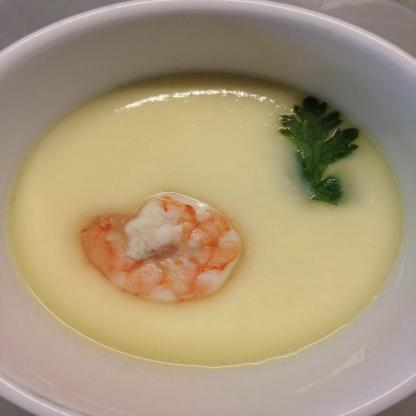Kaithoon: (2, 58, 416, 378)
